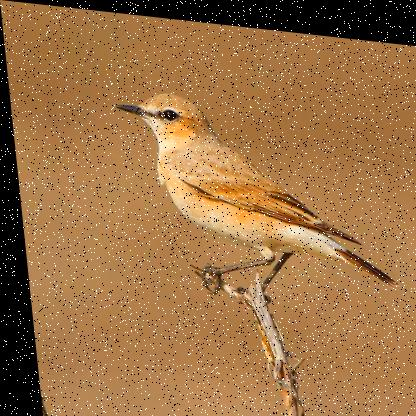Burung: (110, 76, 402, 310)
